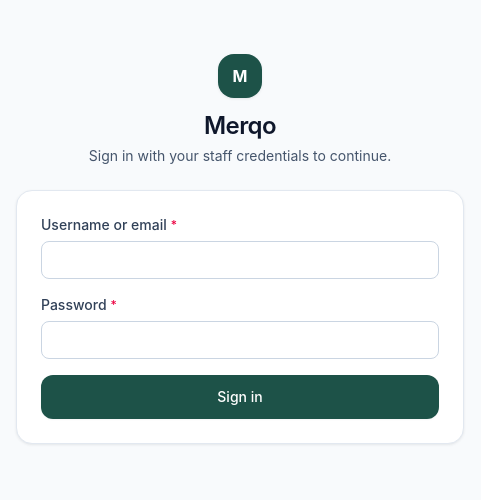
Scenario: LoginPage › shows a clear message when the credentials are wrong
Type "demo.manager.dm" into the field labelled "Username or email" at (240, 260), box [41,241,439,279]
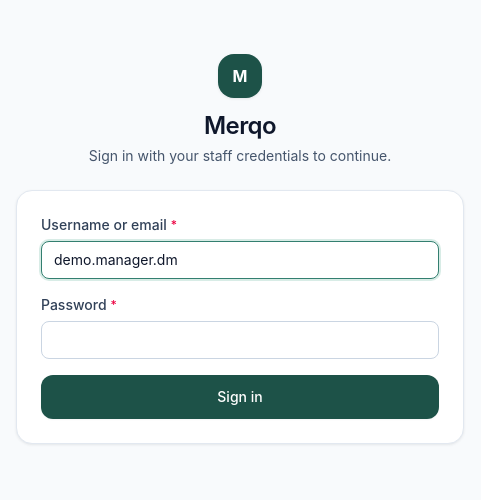
Type "wrong-password" into the password field labelled "Password" at (240, 340), box [41,321,439,359]
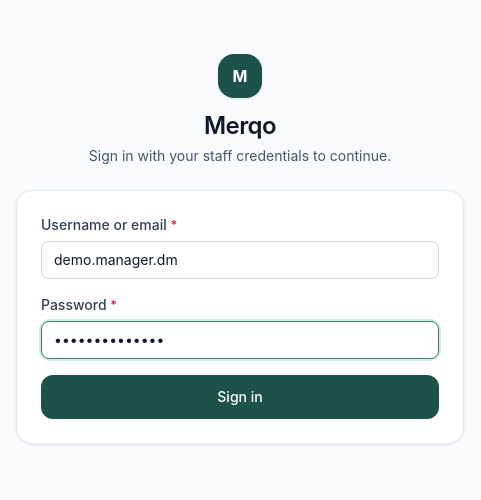
Click the button "Sign in" at (240, 397), box [41,375,439,419]
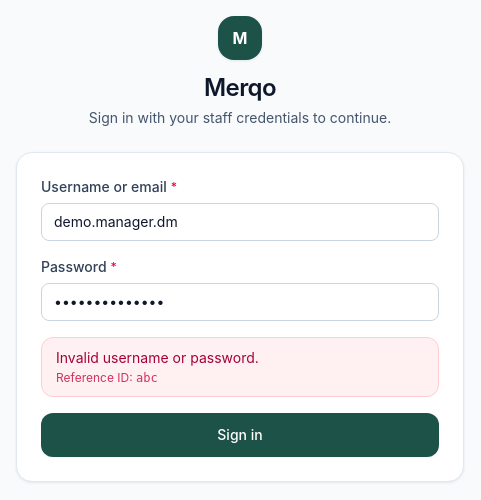
Now the text "Invalid username or password." is shown, box [56,349,259,366]
